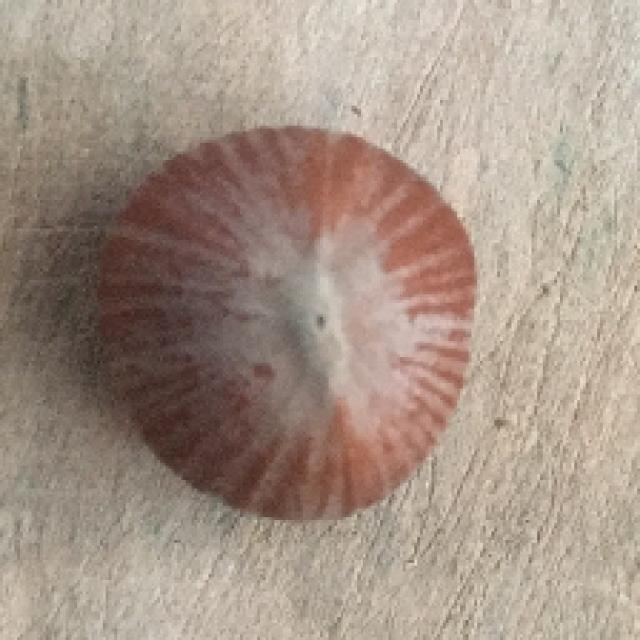QualityHazelnut: (104, 122, 472, 521)
